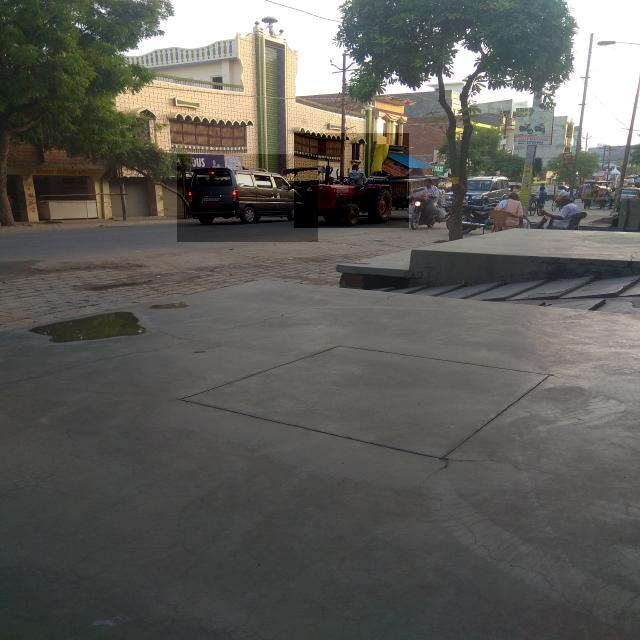Car: (177, 154, 318, 242)
Tractot: (294, 133, 409, 228)
